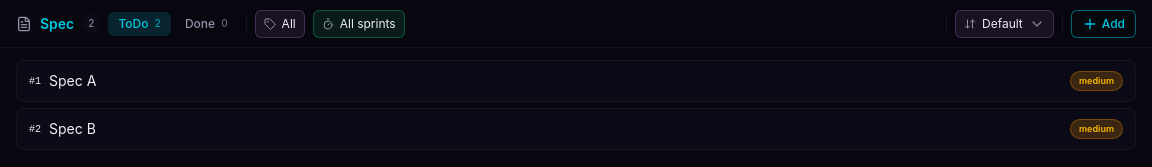
it: SpecsBoard sprint filter › clears the filter with "All sprints"
What coordinates should you click on to do the following:
click the button with test id "spec-sprint-filter-dropdown"
I would click on:
 (359, 24)
Its box is [313, 10, 405, 38].
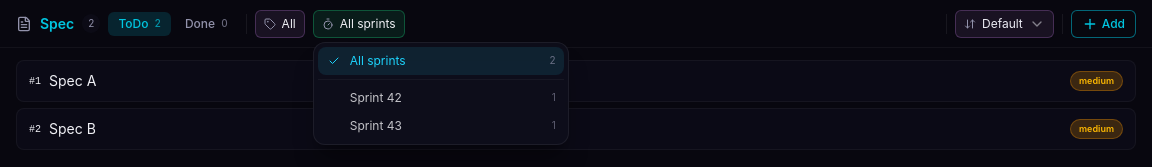
What coordinates should you click on to do the following:
click the option "Sprint 43 1"
I would click on:
 (441, 126)
Its box is [318, 112, 564, 140].
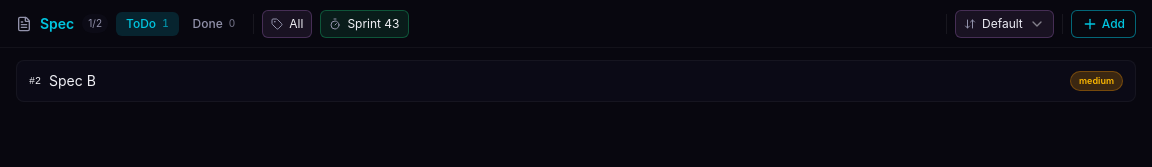
Now the button "Spec A" is gone
What coordinates should you click on to do the following:
click the button with test id "spec-sprint-filter-dropdown"
I would click on:
 (364, 24)
Its box is [320, 10, 409, 38].
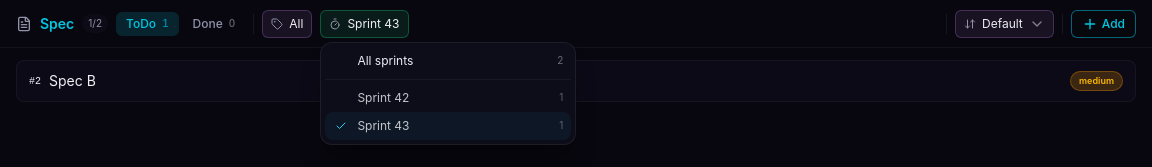
What coordinates should you click on to do the following:
click the option with test id "spec-sprint-filter-all"
I would click on:
 (448, 60)
Its box is [325, 46, 571, 74].
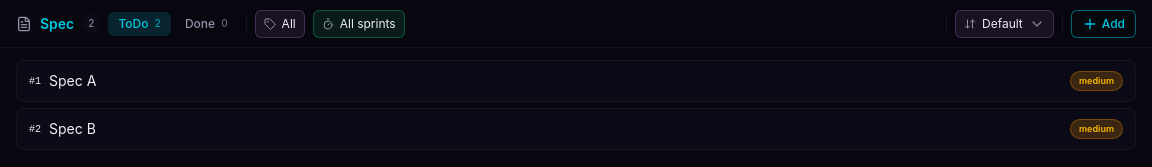
Expected: the text "Spec B" is shown, [49, 120, 96, 137]
Now the text "Spec A" is shown, box [49, 72, 96, 89]
